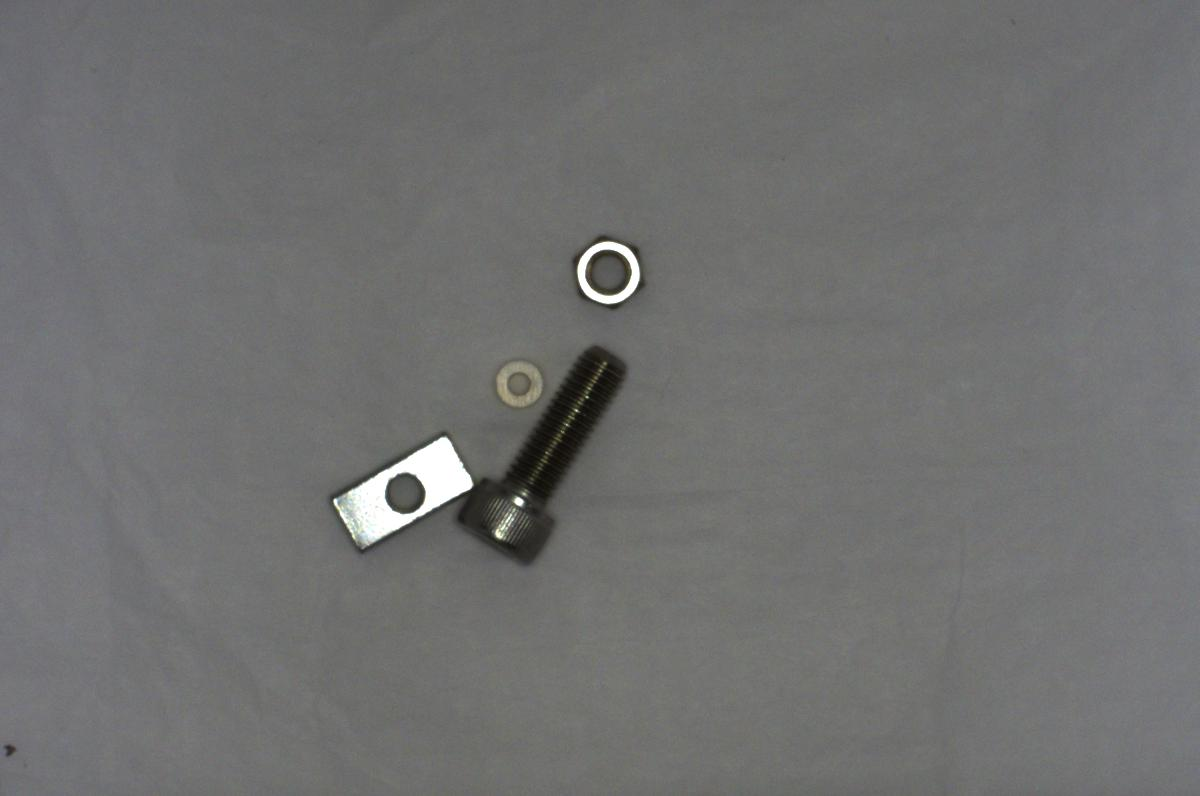Hexagon nut: (570, 229, 645, 314)
Hexagon screw: (457, 340, 628, 559)
Plastic cushion pillar: (484, 355, 548, 416)
Rectangular nut: (326, 434, 477, 549)
